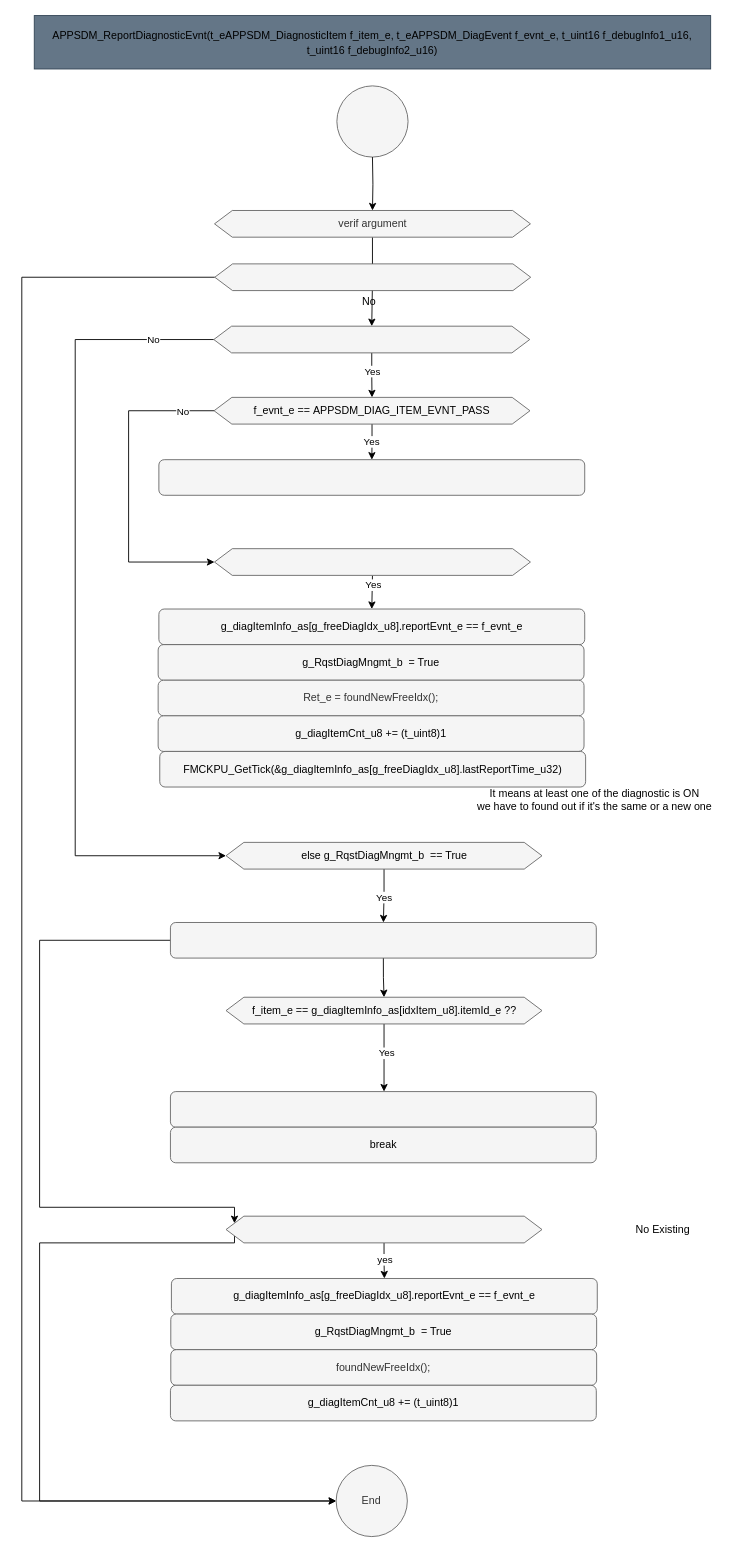
The diagram is 740 pixels wide and 1552 high, and some of its shapes have lost their labels. The centre of each missing label's shape, as x and y in pixels:
"else f_evnt_e == APPSDM_DIAG_ITEM_EVNT_FAIL" goes at (x=372, y=561).
"g_diagItemInfo_as[idxItem_u8]. reportEvnt_e = f_evnt_e" goes at (x=383, y=1109).
"g_IDiagItemCnt_u8 >= APPSDM_MAX_DIAG_ITEM_MONITORING ??" goes at (x=372, y=277).
"g_RqstDiagMngmt_b == False ??" goes at (x=371, y=339).
"idxItem_u8 >= APPSDM_MAX_DIAG_ITEM_MONITORING && idxItem_u8 >= g_diagItemCnt_u8" goes at (x=383, y=1229).
"loop idxItem_u8 < APPSDM_MAX_DIAG_ITEM_MONITORING" goes at (x=383, y=940).
"Ret_e = RC_WARNING_NO_OPERATION" goes at (x=371, y=477).
"Start" goes at (x=372, y=121).
